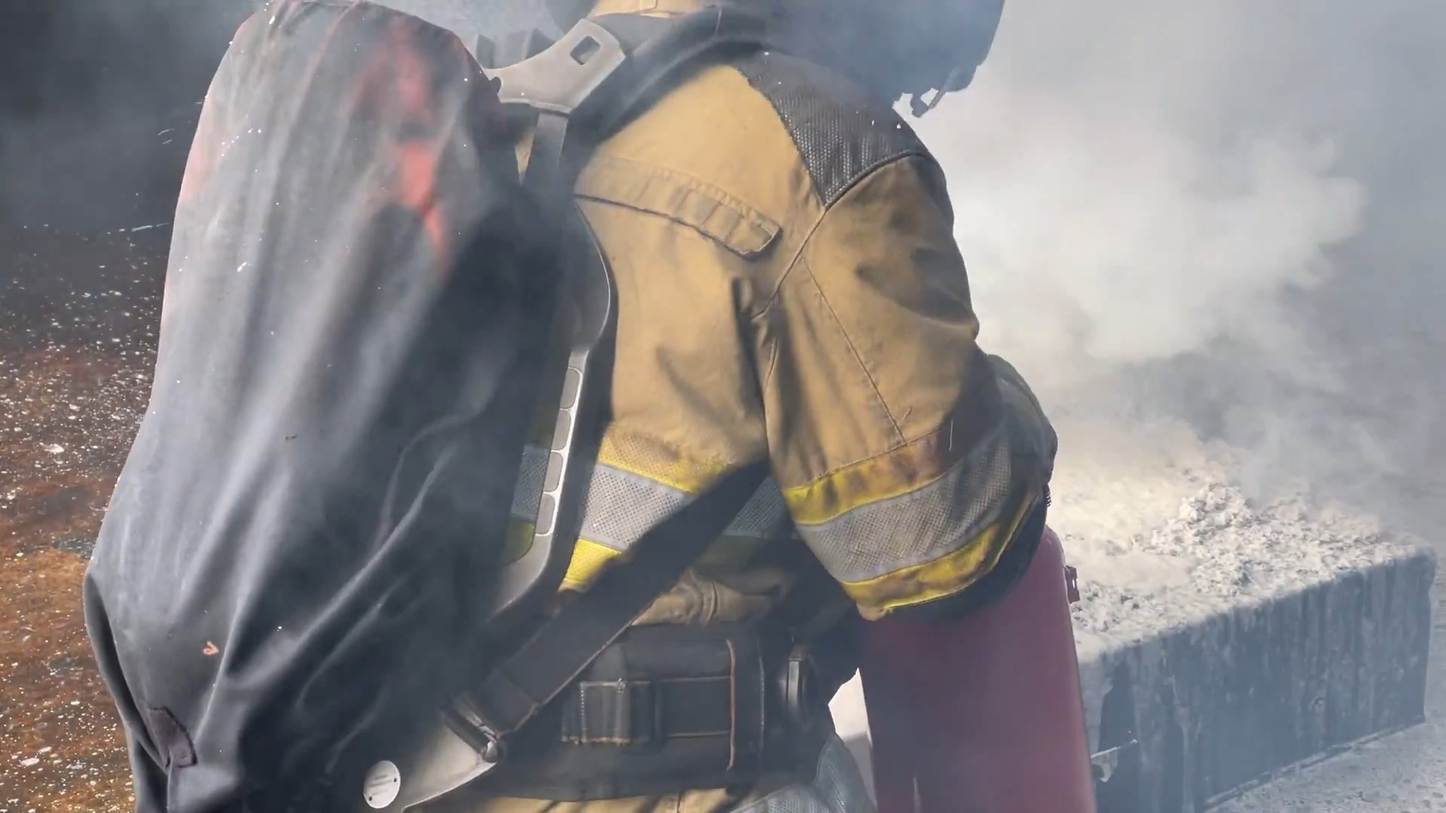smoke: (953, 0, 1446, 437)
